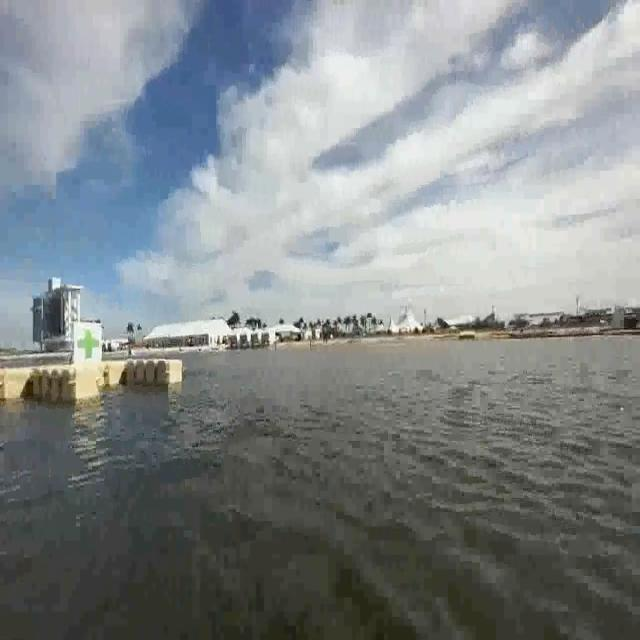blue-cross: (74, 320, 102, 366)
